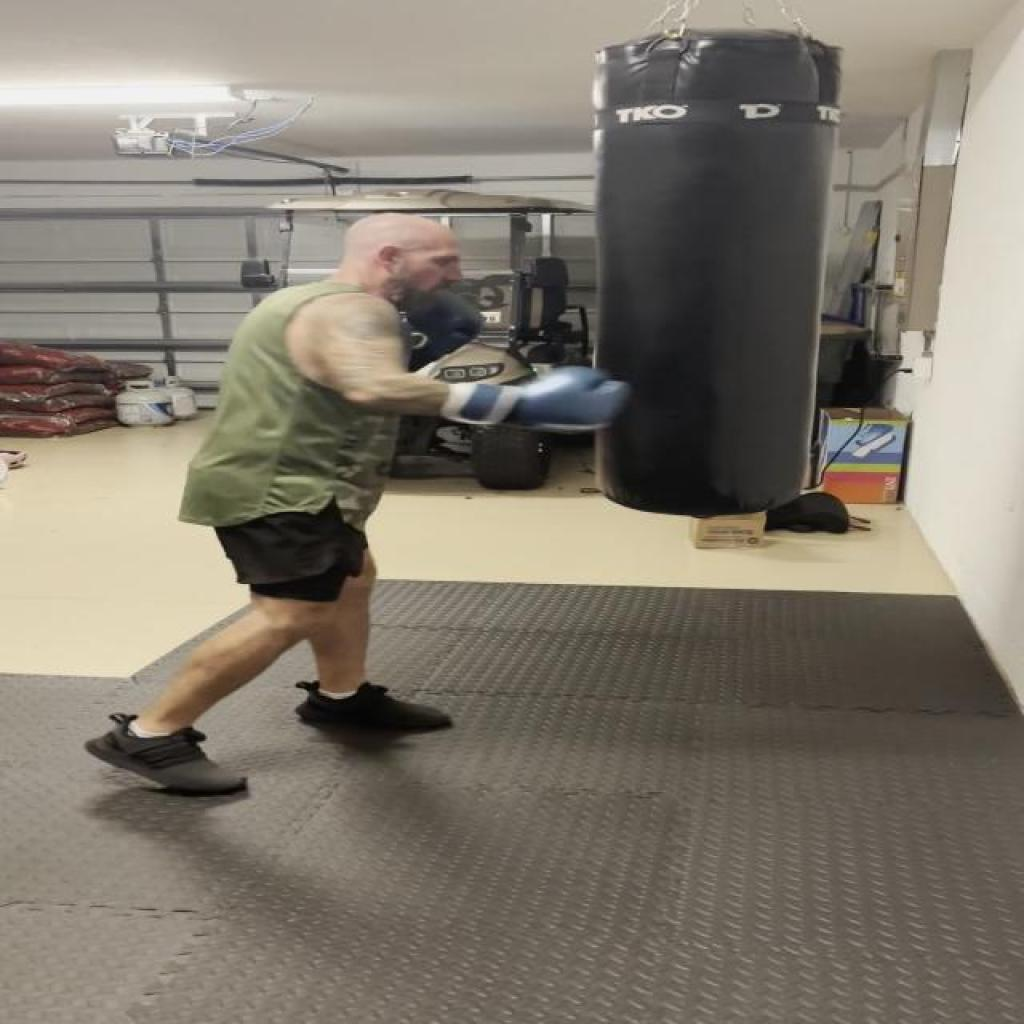bag: (589, 22, 840, 522)
hook: (186, 200, 635, 486)
